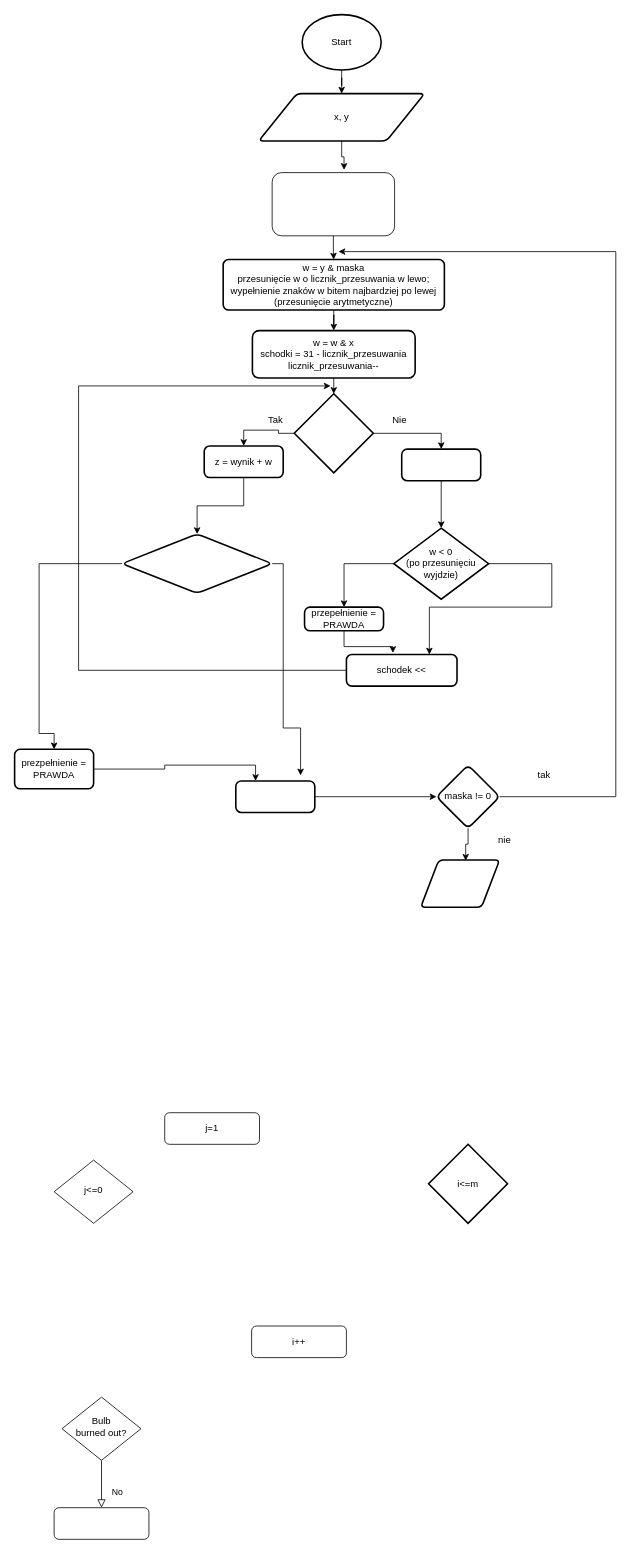
Some shapes in this 636 by 1553 pixel diagram are drawn without their labels. Each missing label, with the box of its shape:
(sgn(z)!=sgn(w)): (121, 533, 273, 594)
maska = 1, licznik_przesuwania = 31, przepełnienie = FAŁSZ, wynik = 0: (271, 172, 395, 236)
Repair Lamp: (53, 1507, 149, 1539)
schodki == 0: (293, 393, 374, 473)
schodki--: (401, 448, 481, 481)
wynik = z maska <<: (235, 780, 315, 813)
zwróć wynik: (419, 859, 500, 908)
